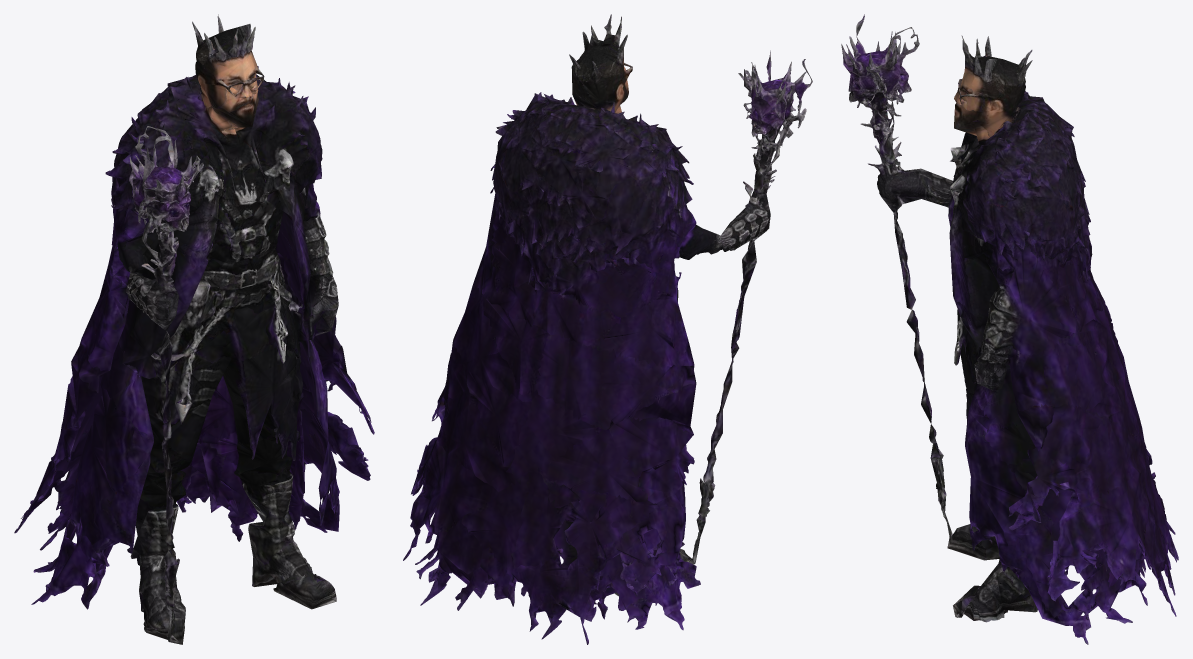
The model's file is alvonkan_game.glb.
3 renders of one model, left to right at view 1: azimuth 30°, elevation 25°; view 2: azimuth 150°, elevation 25°; view 3: azimuth 270°, elevation 25°, orthographic. The views are drawn at different scales.
Parts seen in each view (by area): view 1: AlVonKan; view 2: AlVonKan; view 3: AlVonKan.
Boxes of the visible parts, bbox=[...] form: AlVonKan: bbox=[14, 14, 374, 644]; AlVonKan: bbox=[403, 14, 812, 644]; AlVonKan: bbox=[841, 14, 1178, 644].
Size of the model in its own units: 1.11 by 1.89 by 1.07.
Materials: 1 (1 with a texture image).
